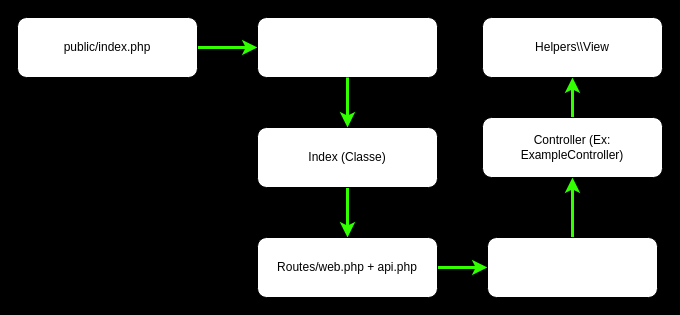
The diagram is 680 pixels wide and 315 high, and some of its shapes have lost their labels. The shapes that lost their labels are listed below. From the top down, each one's box as (x1, y1, x2, y2) in pixels, then its label:
(256, 16, 438, 78): vendor/autoload.php
(486, 236, 658, 298): Helpers\\Routes
